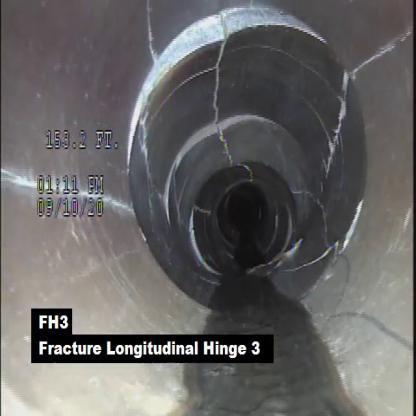Crack: (333, 261, 409, 360), (3, 169, 130, 213), (322, 83, 352, 174), (352, 32, 413, 76), (341, 194, 367, 254), (210, 65, 224, 128)
Joint_offset: (227, 3, 331, 44), (159, 9, 218, 66)
